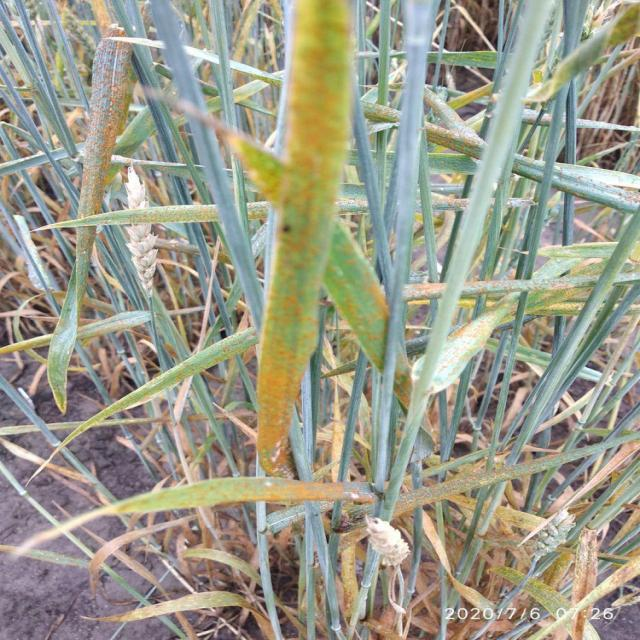wheat-septoria: (240, 0, 387, 476)
